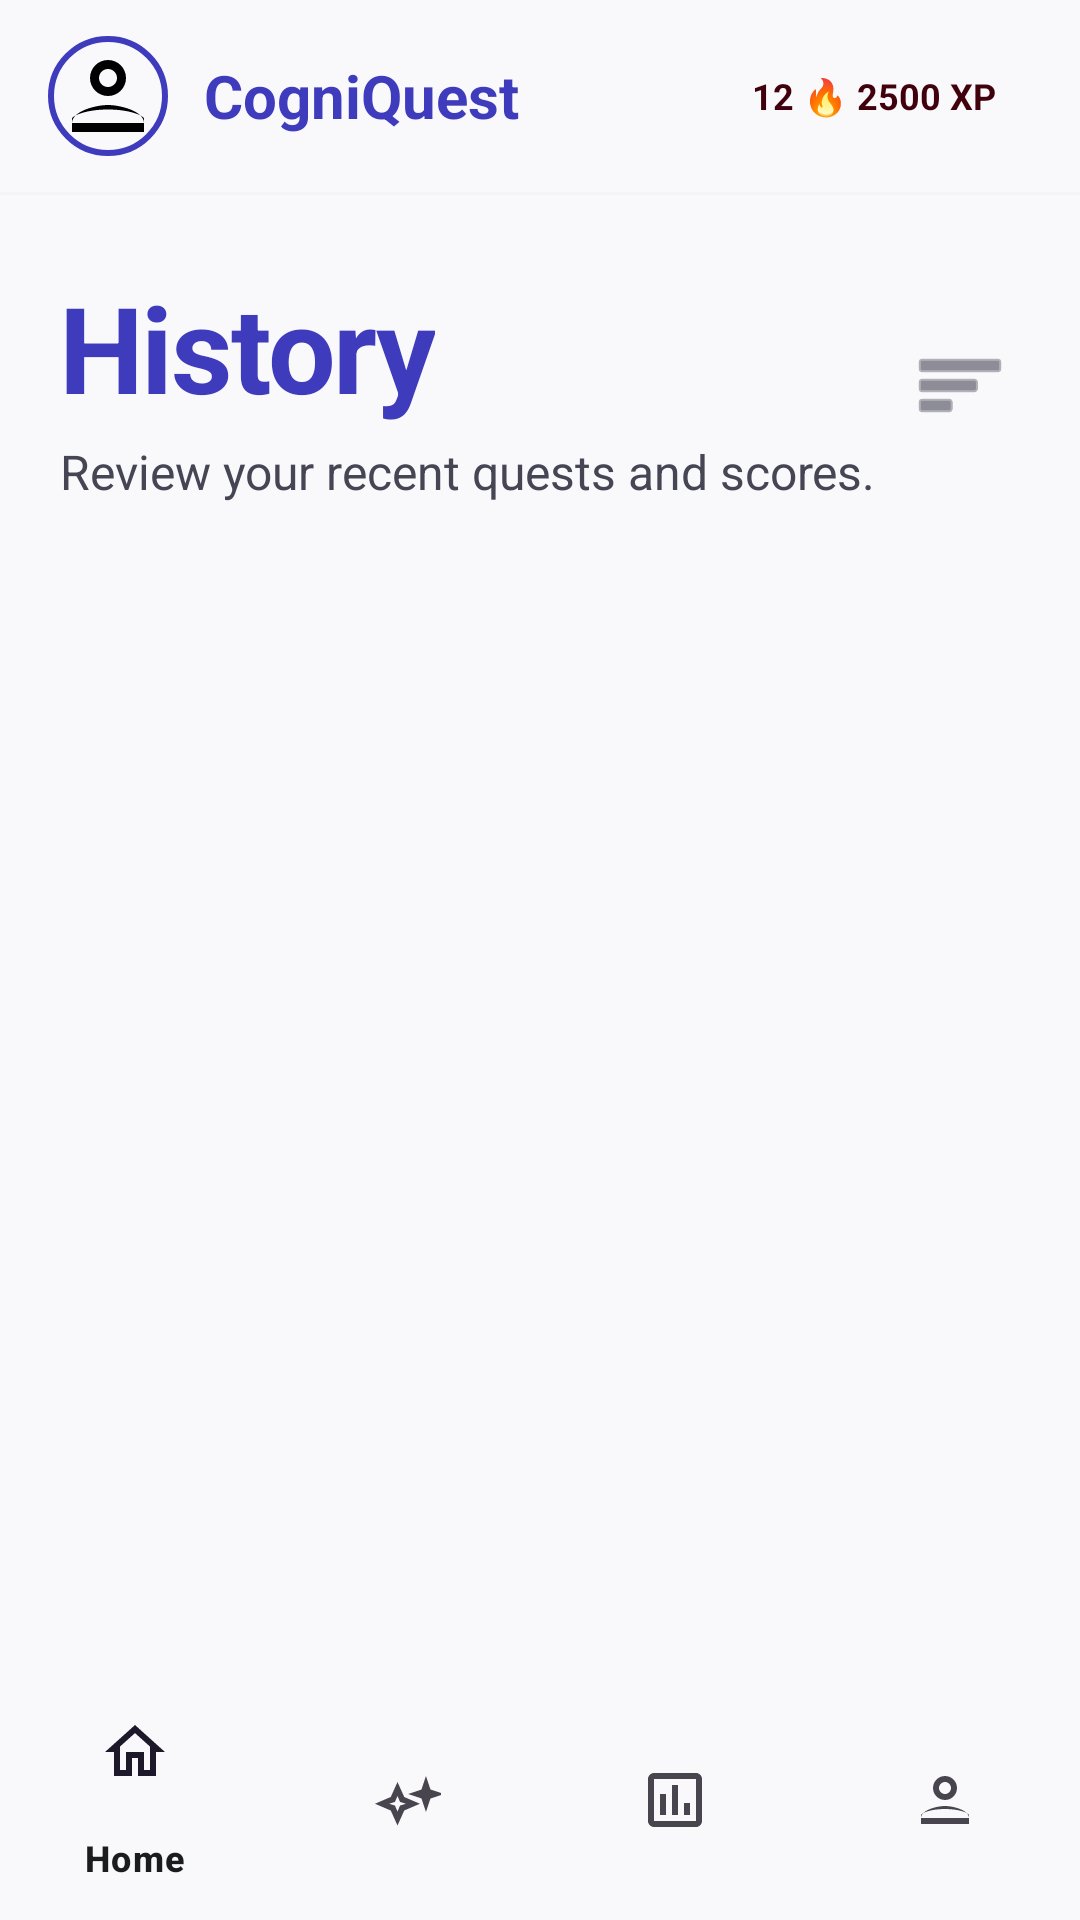

Icon click points for this 1080w x 1920h phone screenshot, format [x,y]:
sort by size: [960,385]
